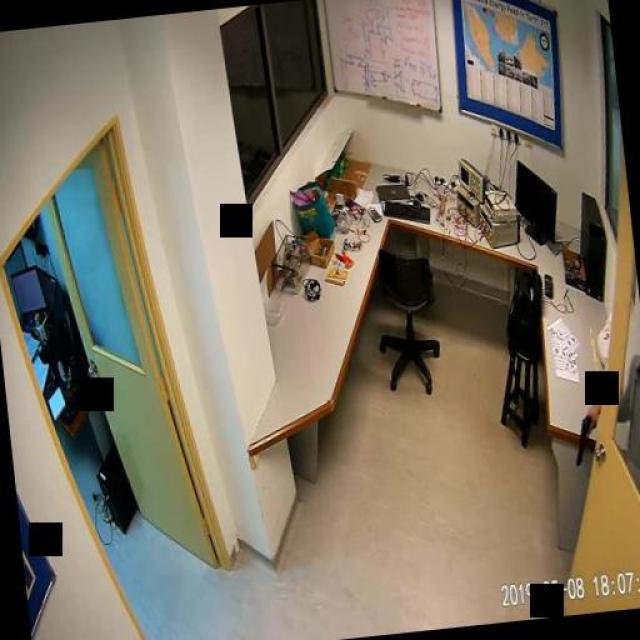gun: (570, 412, 598, 470)
